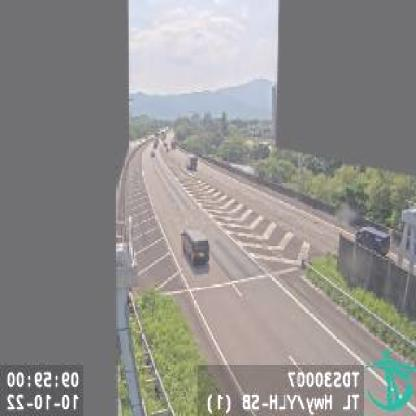Bus: (355, 226, 389, 255)
Car: (180, 226, 209, 266)
